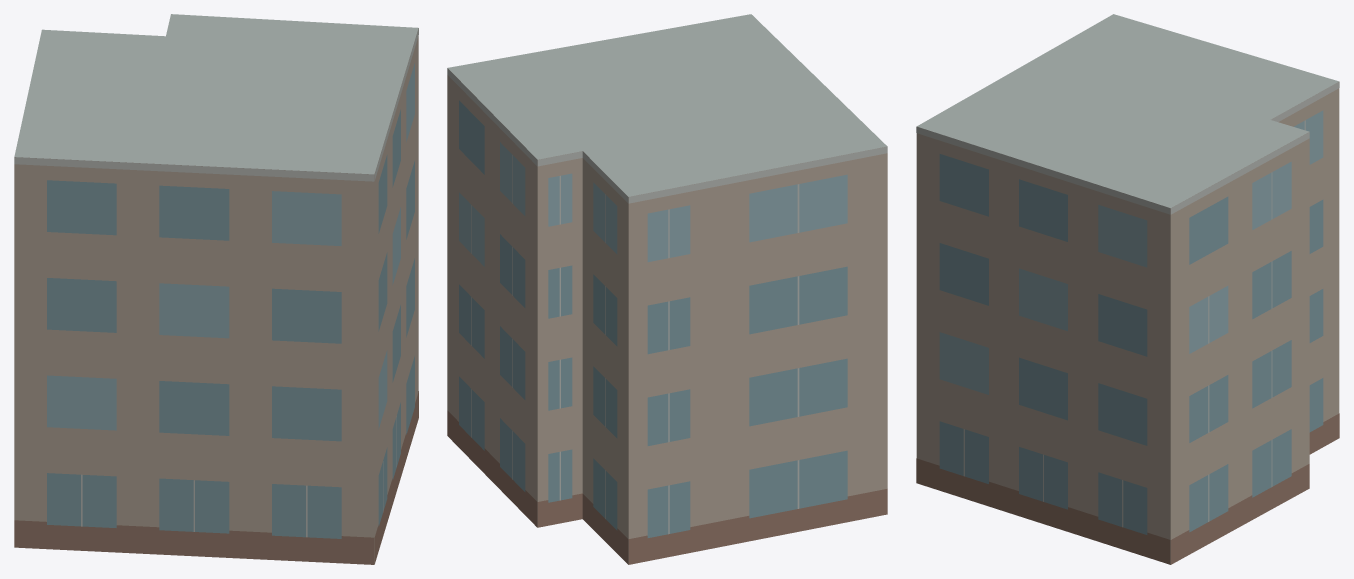
Rendered from survey-upis-32991170.glb.
3 views of the same model, side by side, from view 1: azimuth 30°, elevation 25°; view 2: azimuth 150°, elevation 25°; view 3: azimuth 270°, elevation 25° (orthographic). The views are drawn at different scales.
Visible parts, largest first — view 1: survey-upis-32991170.tmp; view 2: survey-upis-32991170.tmp; view 3: survey-upis-32991170.tmp.
Boxes of the visible parts, bbox=[...] form: survey-upis-32991170.tmp: bbox=[14, 14, 418, 564]; survey-upis-32991170.tmp: bbox=[447, 14, 887, 564]; survey-upis-32991170.tmp: bbox=[916, 14, 1339, 564].
Bounding box in the file's own units: 15.42 × 13.2 × 14.19.
